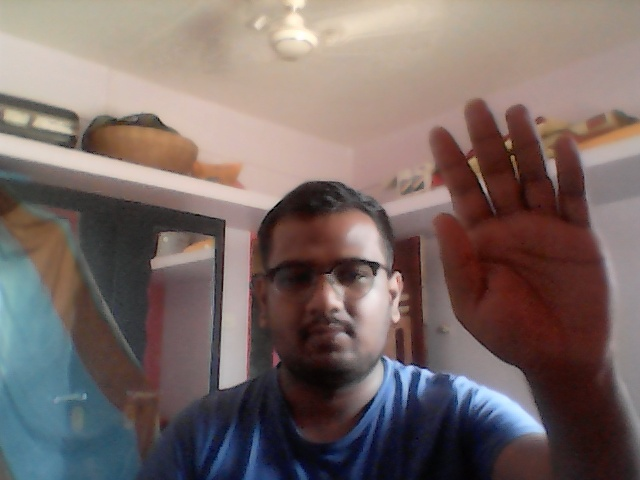Hello: (426, 93, 621, 379)
